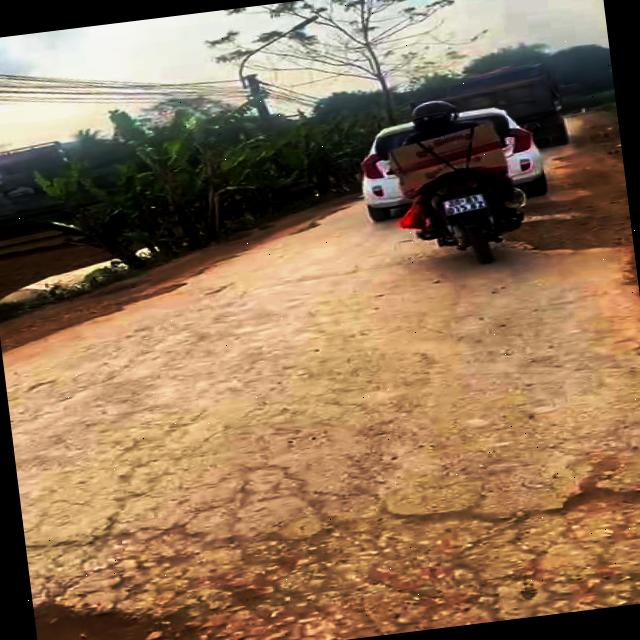pothole: (31, 567, 298, 640), (496, 198, 626, 264)
